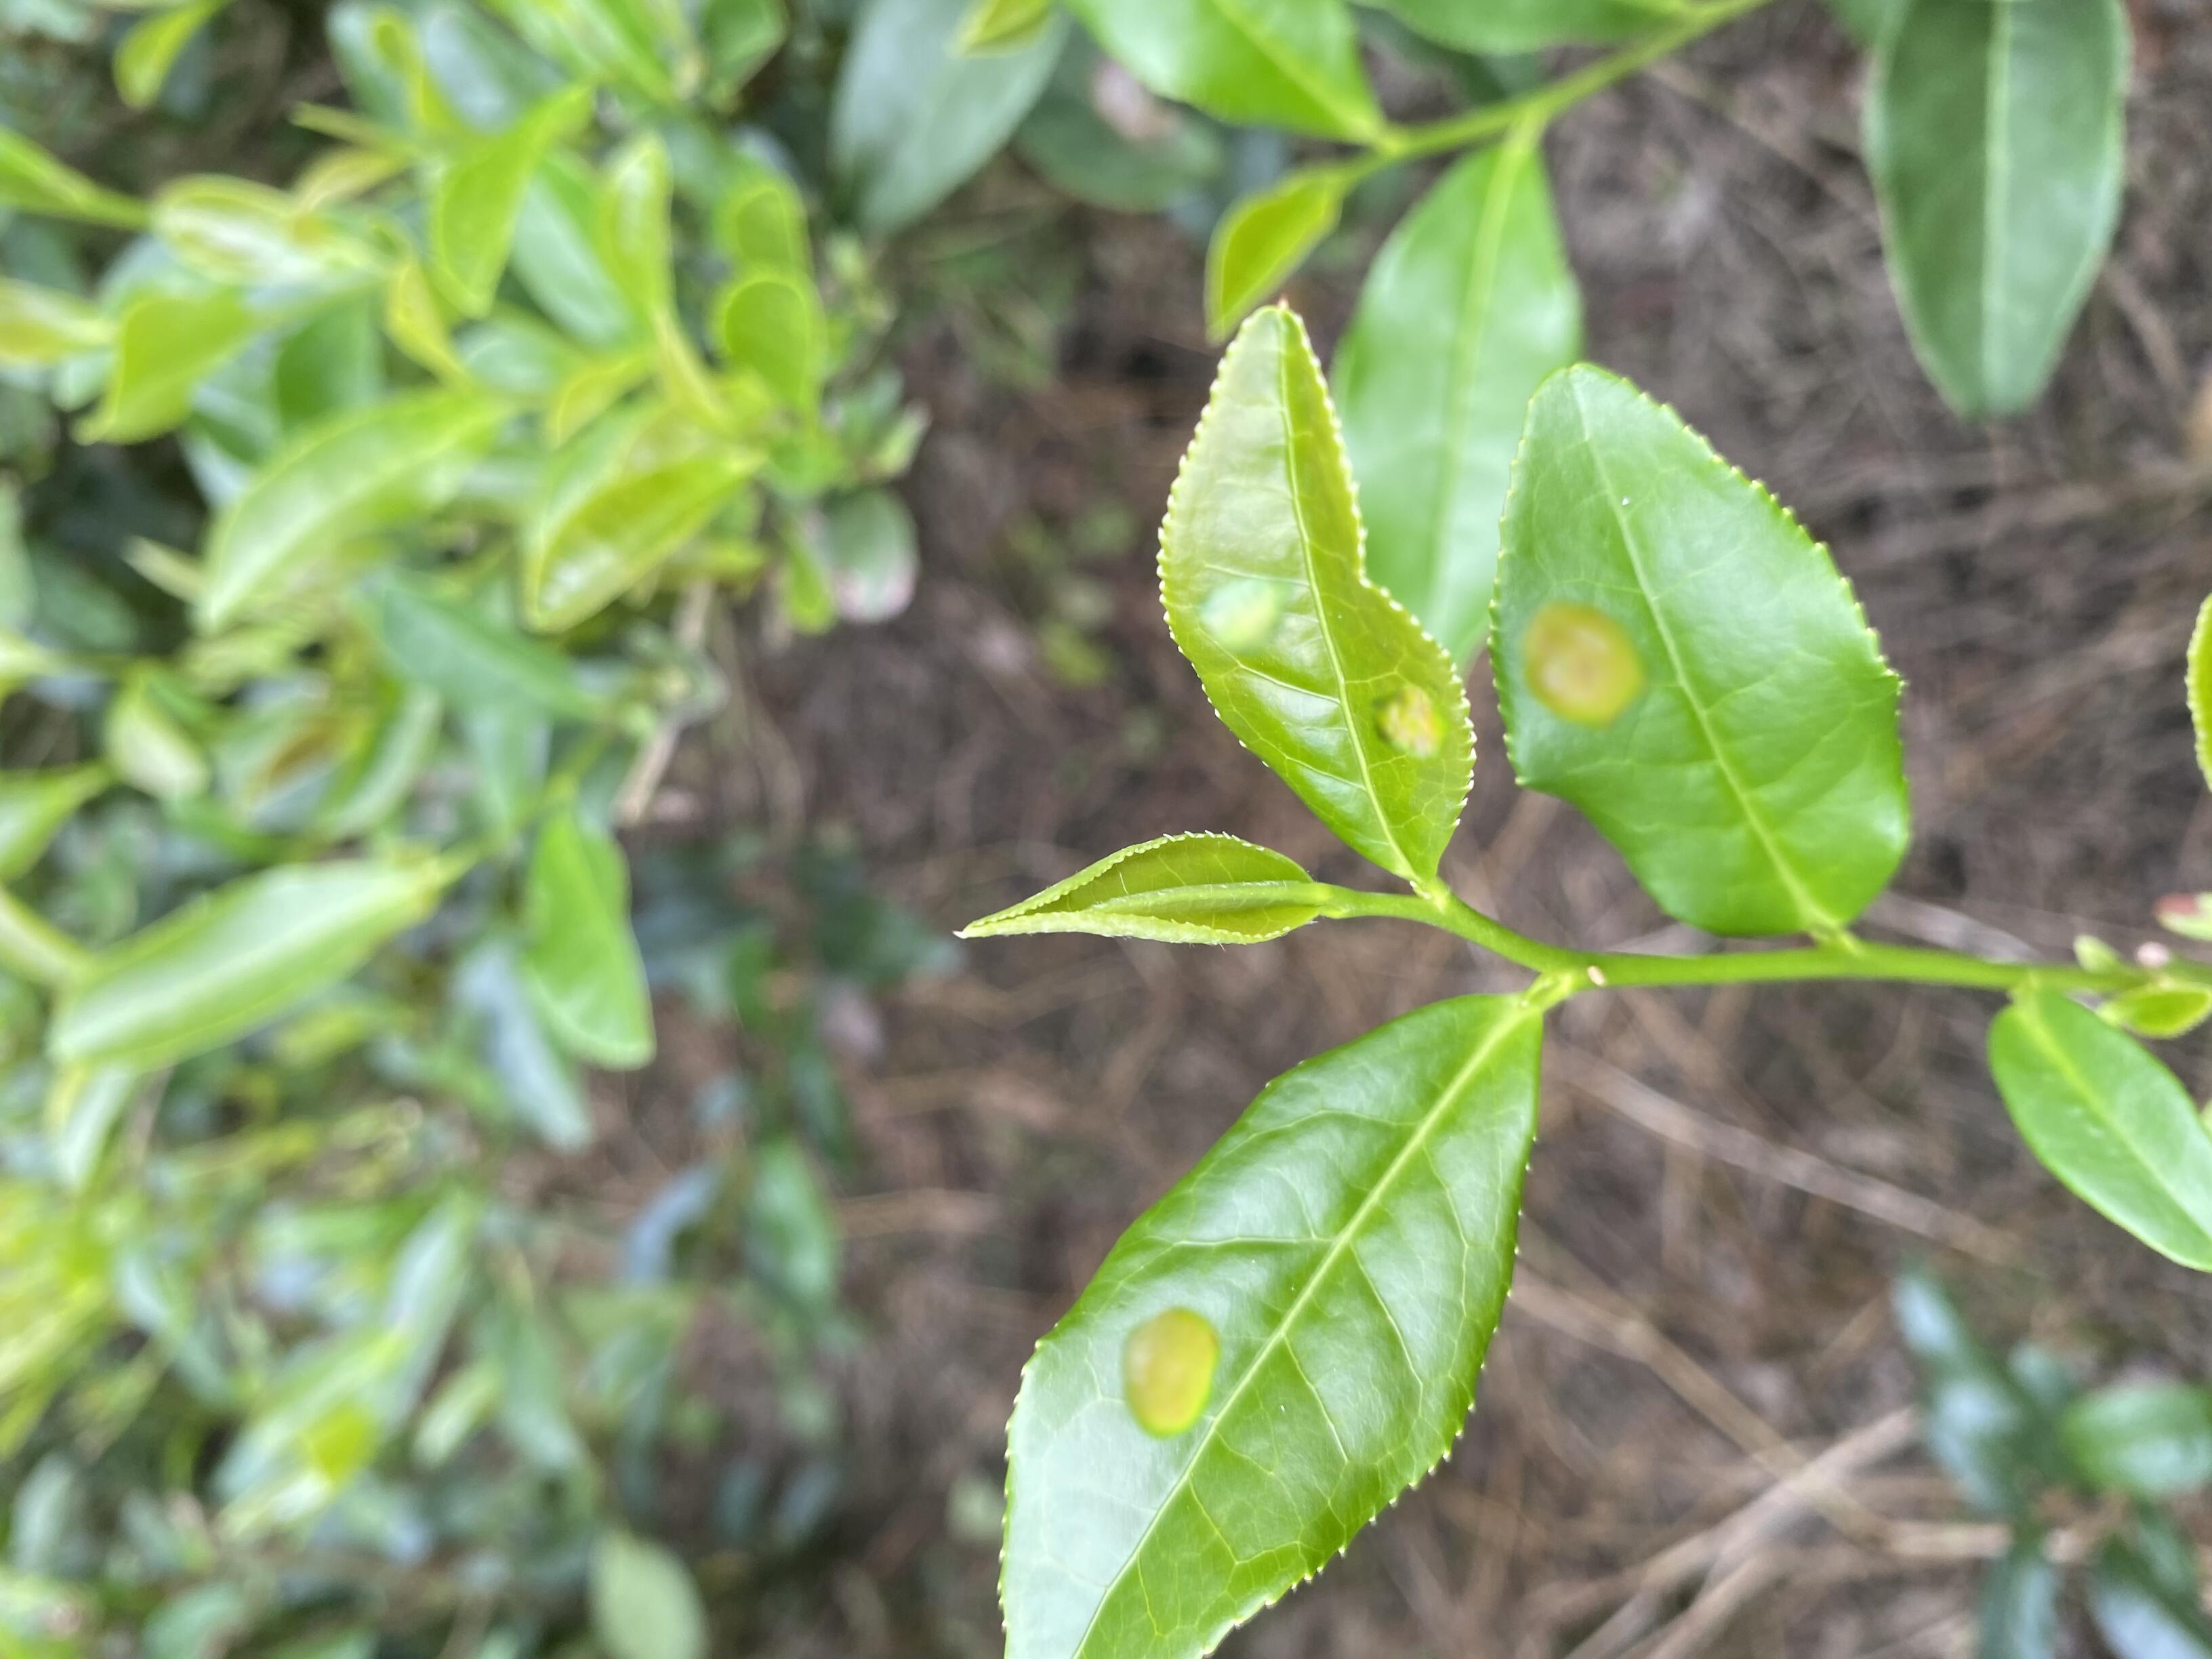chabing_high: (1157, 307, 1477, 884)
chabing_low: (988, 988, 1547, 1659), (1487, 362, 1912, 945)
